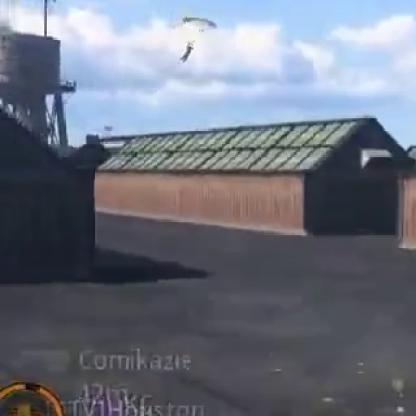enemy: (183, 43, 194, 61)
